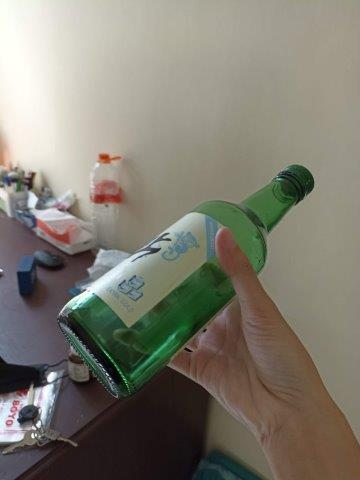botolkaca: (53, 164, 316, 398)
